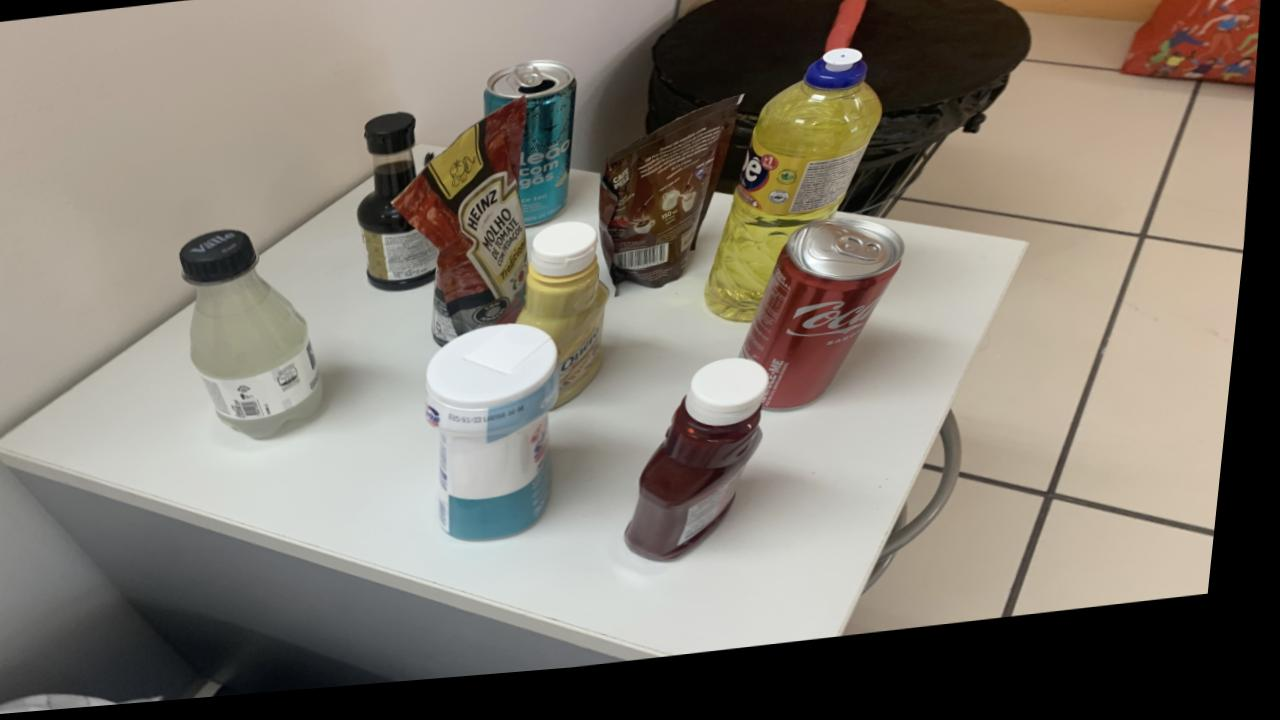Cleaner-Cleanup_Items: (434, 333, 568, 550)
Coffee-Pantry_Items: (605, 110, 745, 299)
Coke-Drinks: (750, 229, 910, 425)
Detergent-Cleanup_Items: (713, 63, 887, 335)
English_Sauce-Pantry_Items: (363, 119, 444, 299)
Ketchup-Pantry_Items: (637, 371, 779, 574)
Mustard-Pantry_Items: (525, 232, 616, 416)
Soda-Drinks: (184, 233, 331, 444)
Tea-Drinks: (486, 69, 579, 235)
Tomato_Sauce-Pantry_Items: (399, 106, 536, 353)
